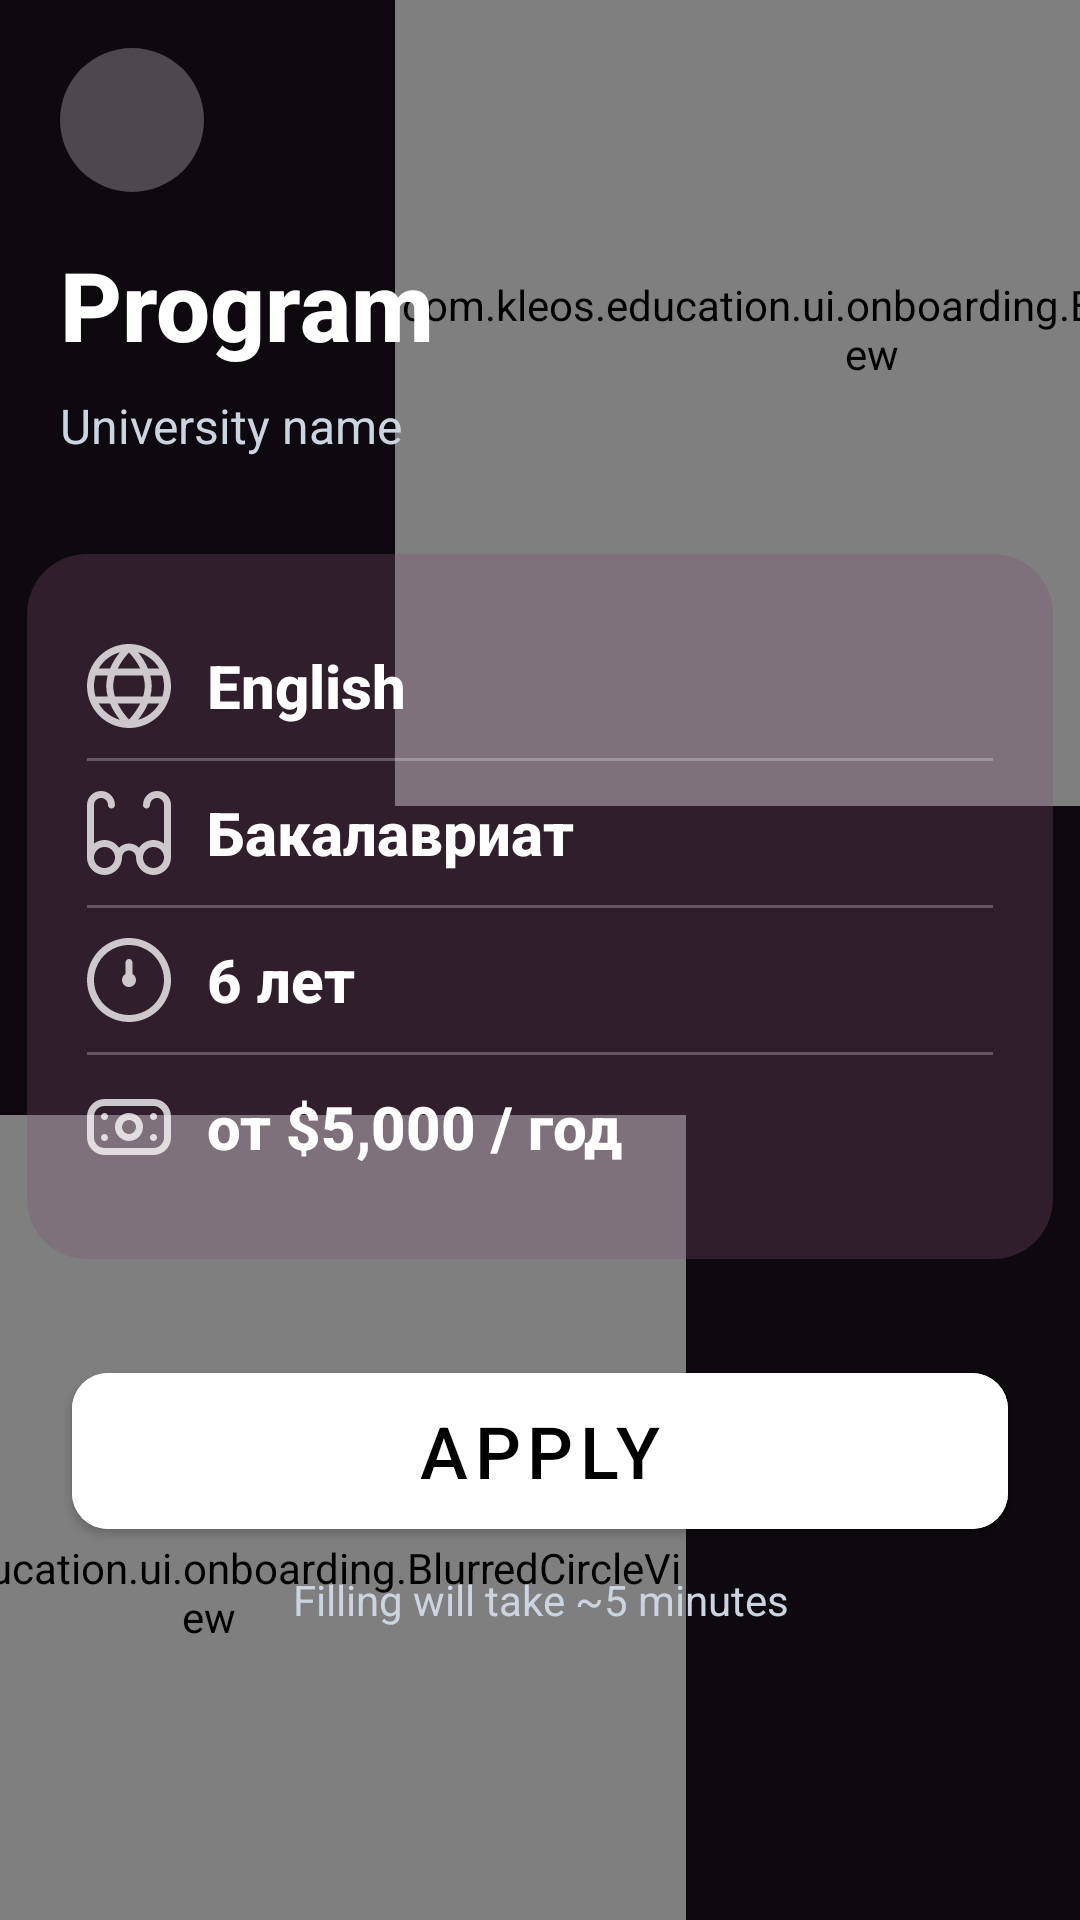

Icon click points for this 1080 x 1920 phone screenshot, format [x,y]:
program clock: [129,980]
program language: [129,686]
program money: [129,1127]
